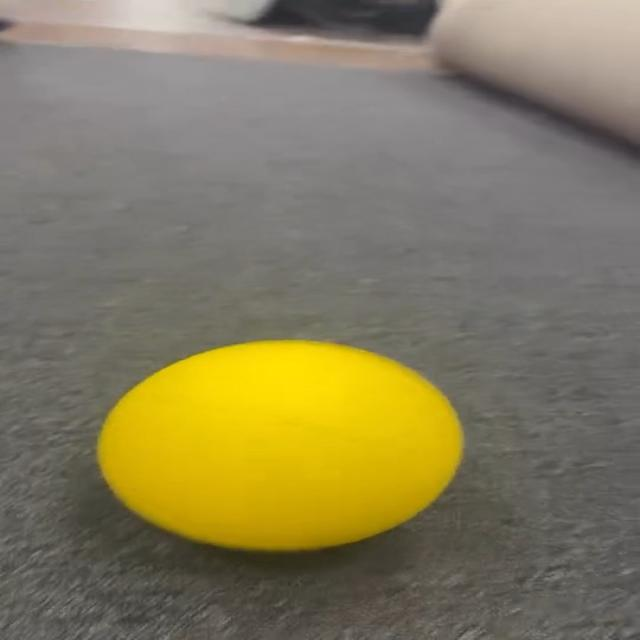Fuels: (98, 341, 462, 552)
